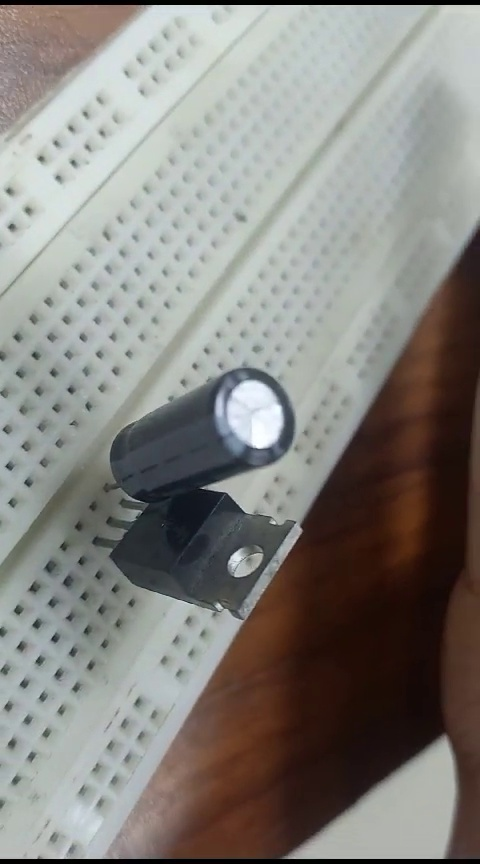capacitor: (104, 349, 299, 480)
voltage regulator: (112, 493, 311, 615)
